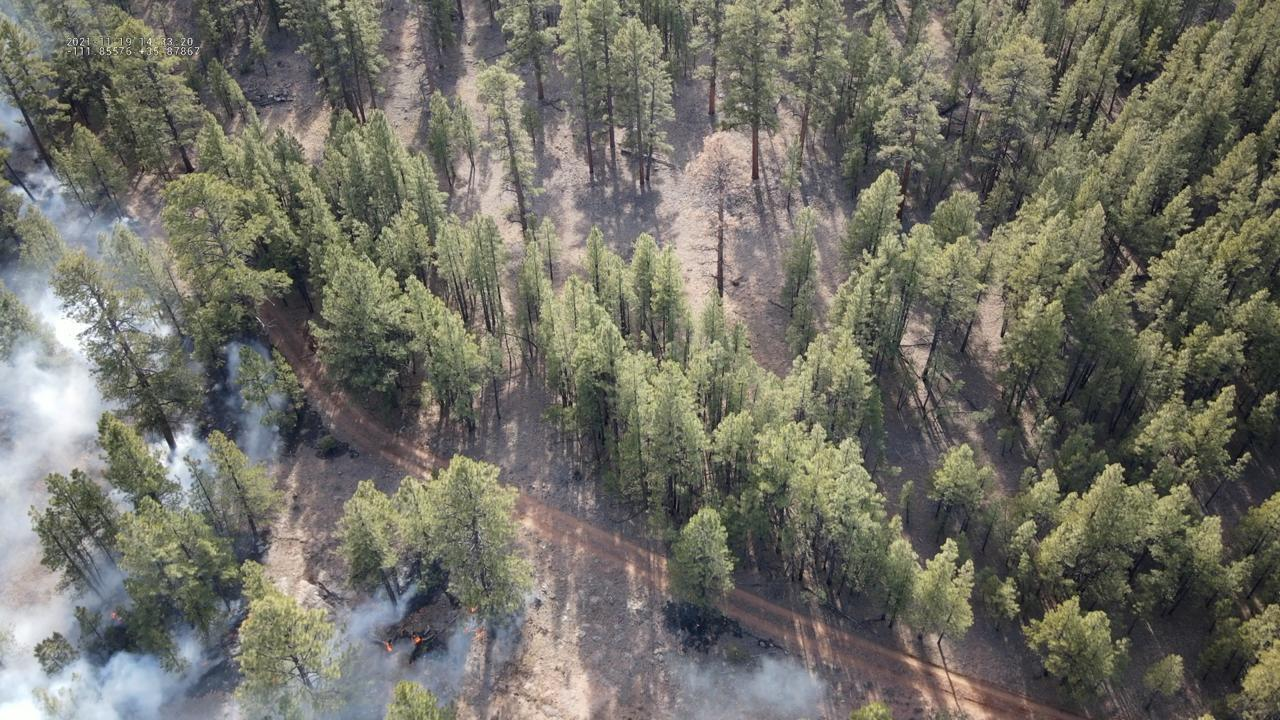fire: (383, 640, 393, 653), (110, 611, 120, 621), (475, 628, 486, 637), (412, 635, 422, 644), (466, 607, 478, 613), (463, 626, 469, 633)
smoke: (0, 166, 524, 720), (666, 656, 833, 720), (0, 0, 65, 153)
